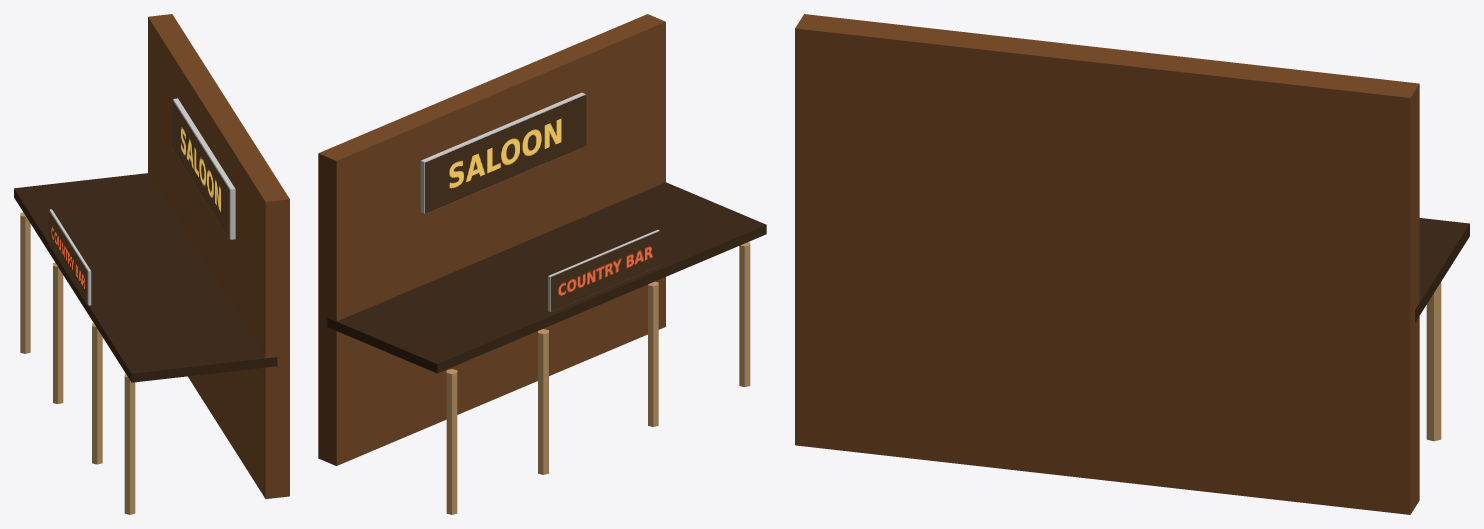
The model's file is pb_saloon.glb.
3 renders of one model, left to right at view 1: azimuth 30°, elevation 25°; view 2: azimuth 150°, elevation 25°; view 3: azimuth 270°, elevation 25°, orthographic. The views are drawn at different scales.
Visible parts, largest first — view 1: pb_saloon_lod0; view 2: pb_saloon_lod0; view 3: pb_saloon_lod0.
Part boxes in pixels (box(x1,y1,x2,y2)): pb_saloon_lod0: box(14, 14, 289, 514); pb_saloon_lod0: box(318, 14, 766, 514); pb_saloon_lod0: box(795, 14, 1469, 514).
Size of what is drawn, in the model's own units: 5.47 by 6.78 by 9.53.
7 materials, 1 textured.
